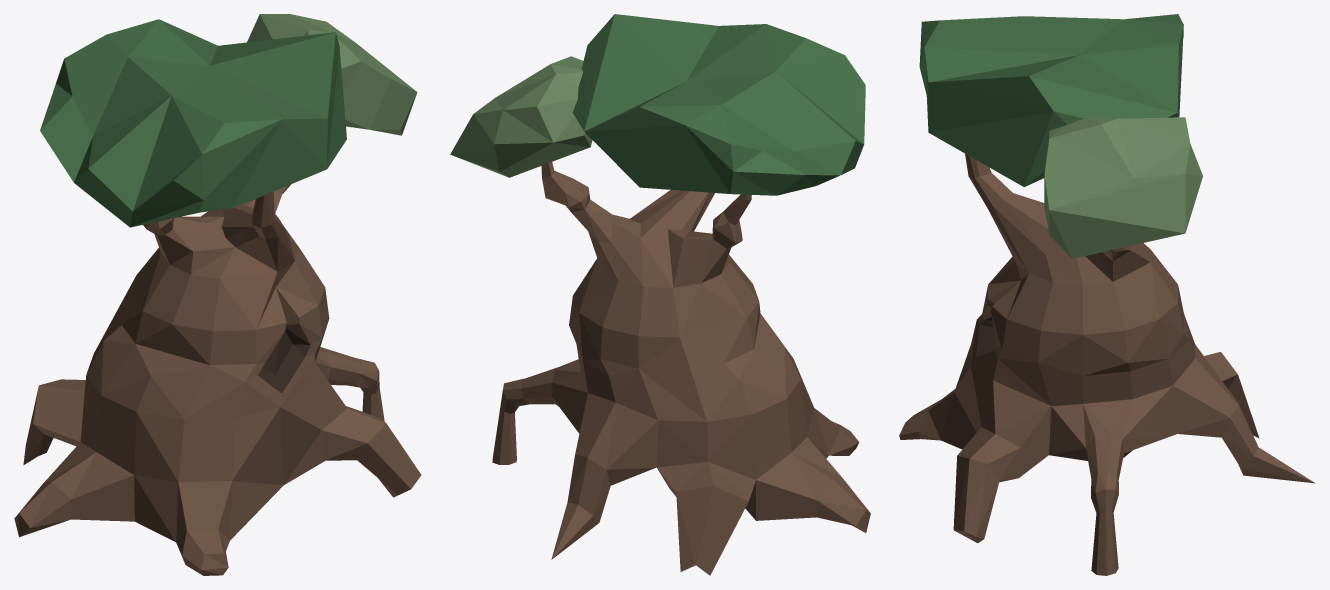
The model's file is _tree_18.fbx.
The picture shows the model from 3 angles, left to right: view 1: azimuth 30°, elevation 25°; view 2: azimuth 150°, elevation 25°; view 3: azimuth 270°, elevation 25°; orthographic projection. The views are drawn at different scales.
Parts seen in each view (by area): view 1: tree_18; view 2: tree_18; view 3: tree_18.
Boxes of the visible parts, left/top/right/bottom form: tree_18: left=14, top=14, right=421, bottom=575; tree_18: left=450, top=14, right=870, bottom=575; tree_18: left=899, top=14, right=1314, bottom=575.
Size of the model in its own units: 904 by 1036 by 854.
